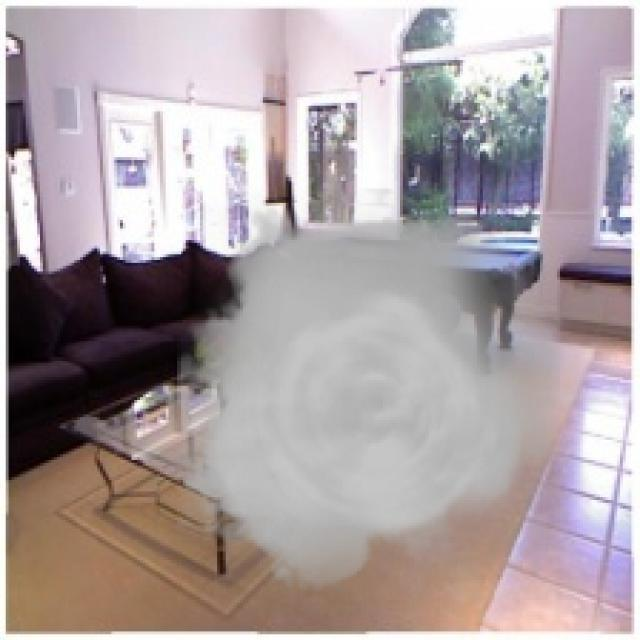Smoke: (177, 188, 563, 603)
